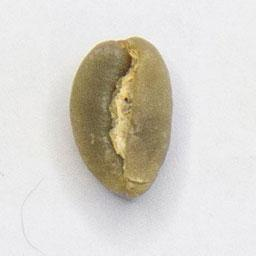longberry: (65, 33, 176, 202)
